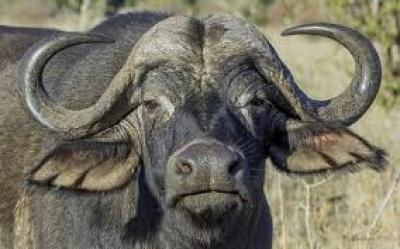buffalo: (0, 11, 386, 249)
